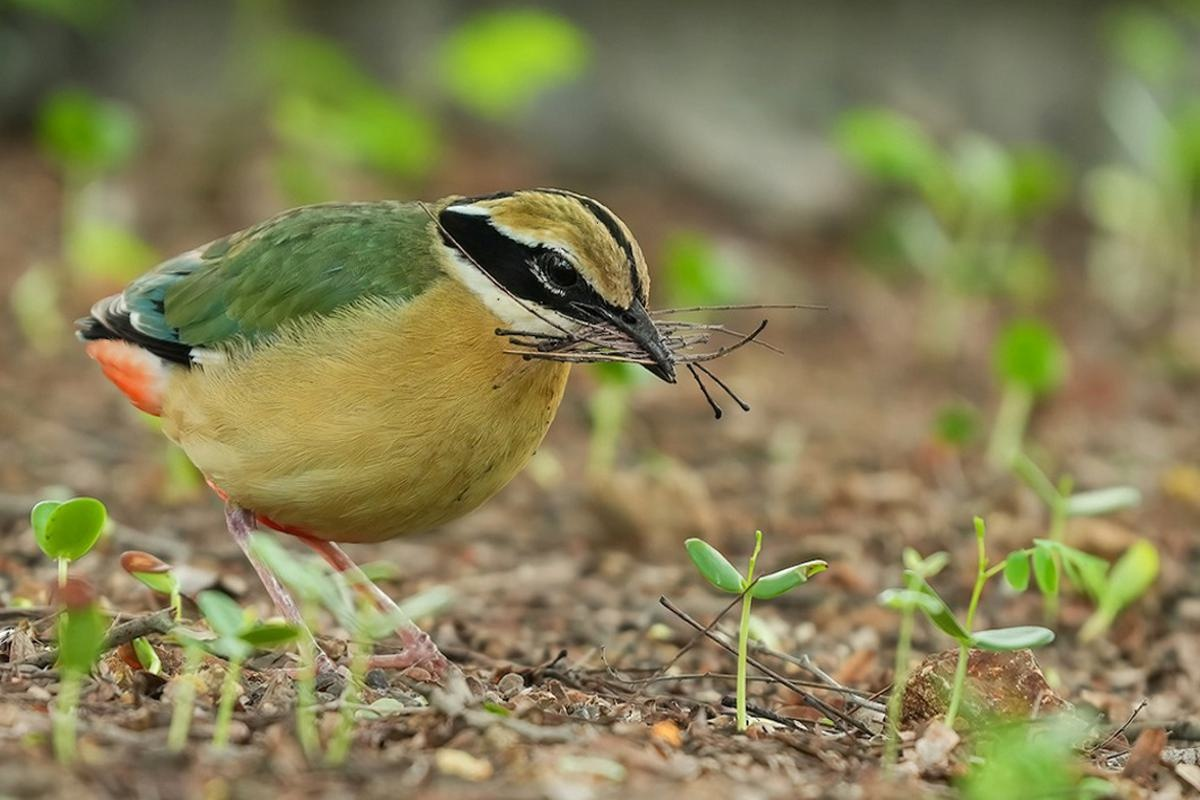pitta: (59, 170, 748, 637)
